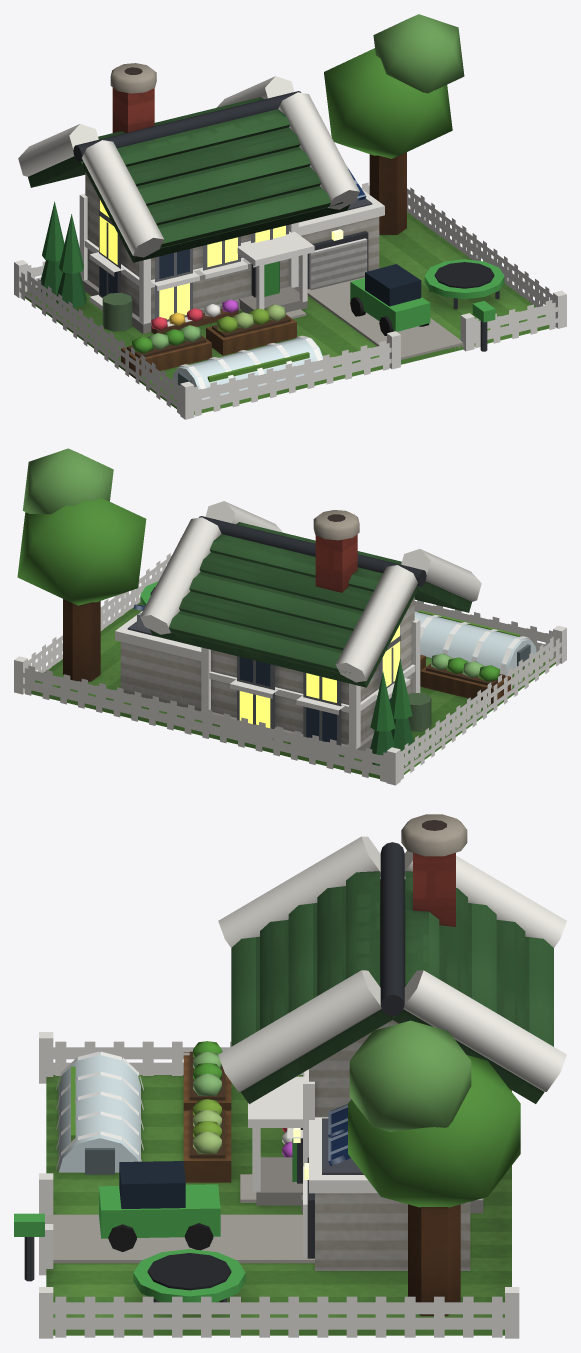
The model's file is homestead_modern_green.glb.
The picture shows the model from 3 angles, top to bottom: view 1: azimuth 30°, elevation 25°; view 2: azimuth 150°, elevation 25°; view 3: azimuth 270°, elevation 25°; orthographic projection. The views are drawn at different scales.
Parts seen in each view (by area): view 1: homestead_modern_green; view 2: homestead_modern_green; view 3: homestead_modern_green.
Part boxes in pixels (x1,y1,x2,y2): homestead_modern_green: (14,14,566,419); homestead_modern_green: (14,448,566,785); homestead_modern_green: (14,814,566,1338).
Bounding box in the file's own units: 0.5497 × 0.2894 × 0.463.
Materials: 3 (1 with a texture image).
